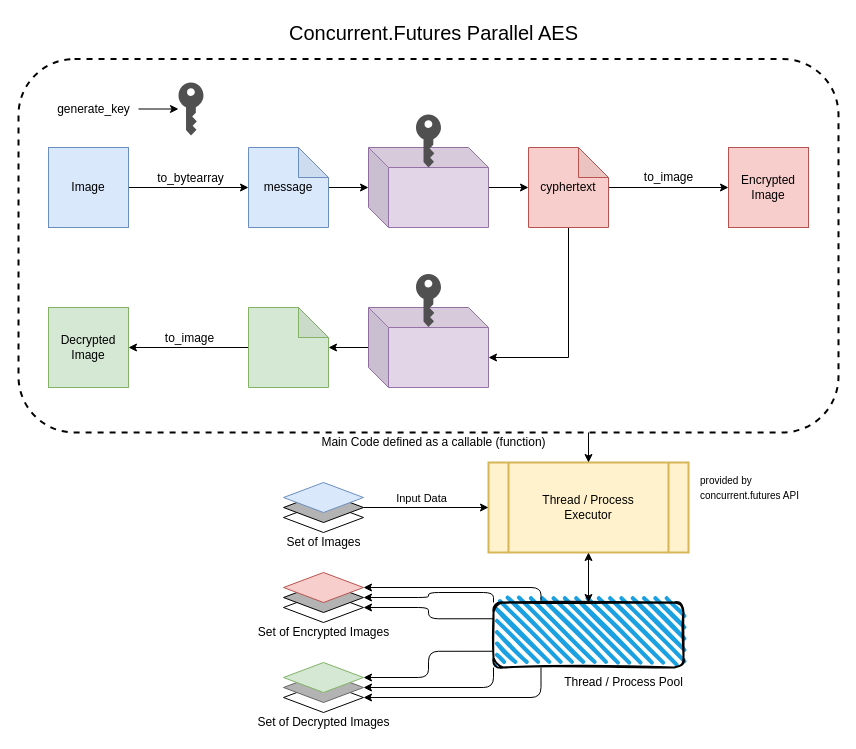
Some shapes in this 856 by 749 pixel diagram are drawn without their labels. The shapes that lost their labels are listed below. From the top down, each one's box as (x1, y1, x2, y2) in pixels, then its label:
(368, 146, 488, 228): Encrypt
(248, 306, 328, 388): cleartext
(368, 306, 488, 388): Decrypt
